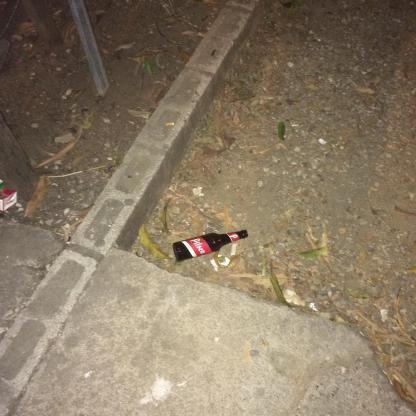cam: (174, 230, 250, 263)
